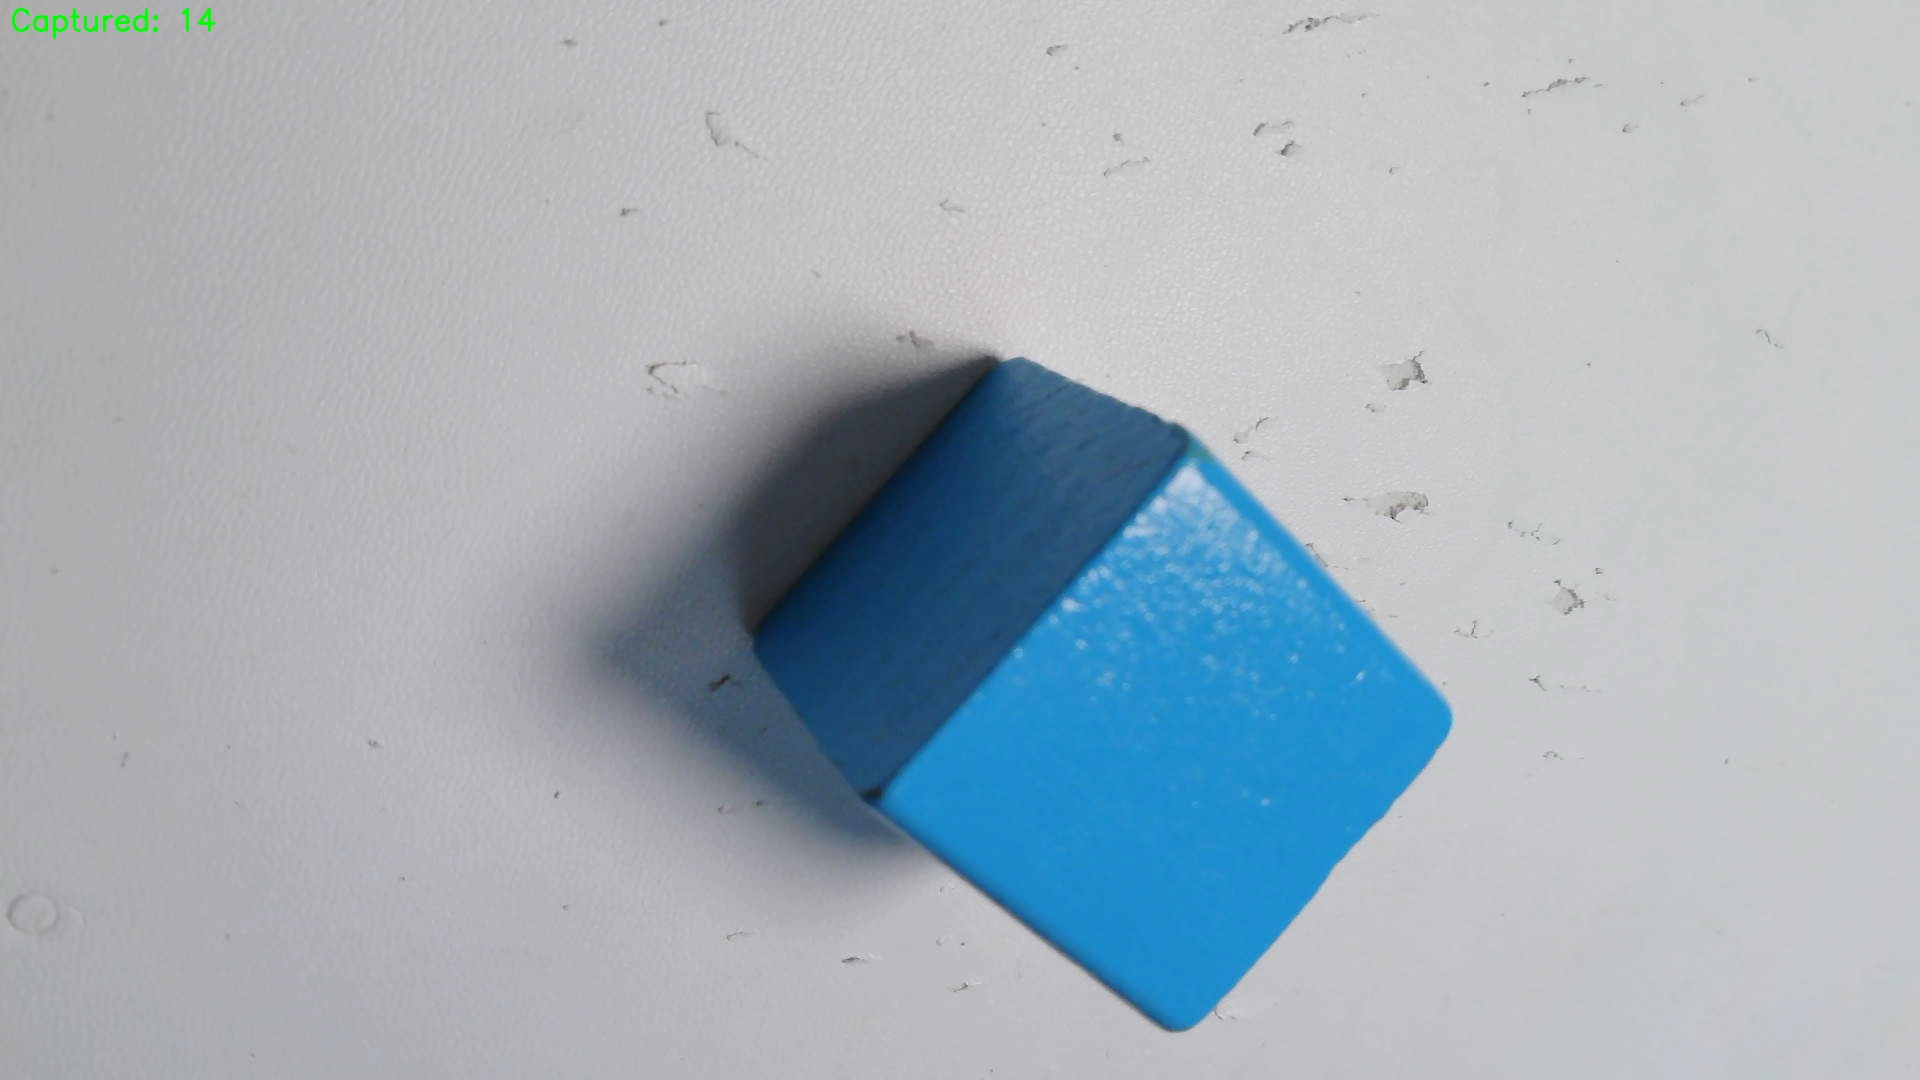blue: (761, 359, 1455, 1029)
